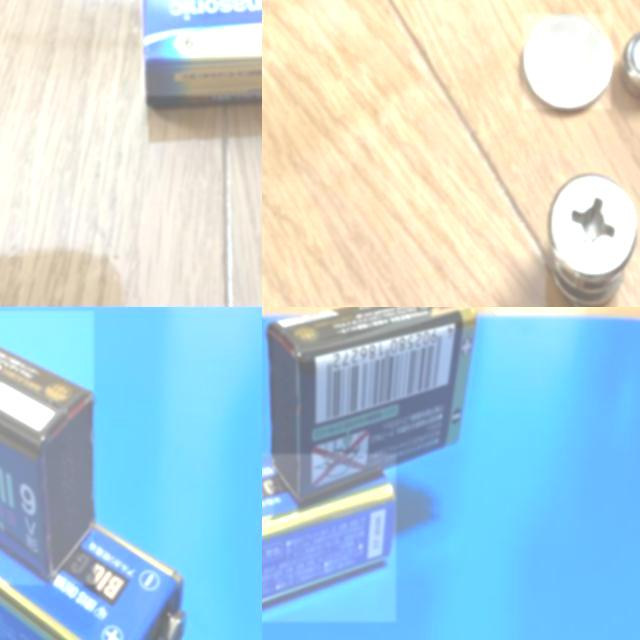9V: (267, 307, 477, 503), (0, 311, 94, 585), (0, 519, 188, 640), (262, 454, 396, 622), (141, 0, 262, 96)
